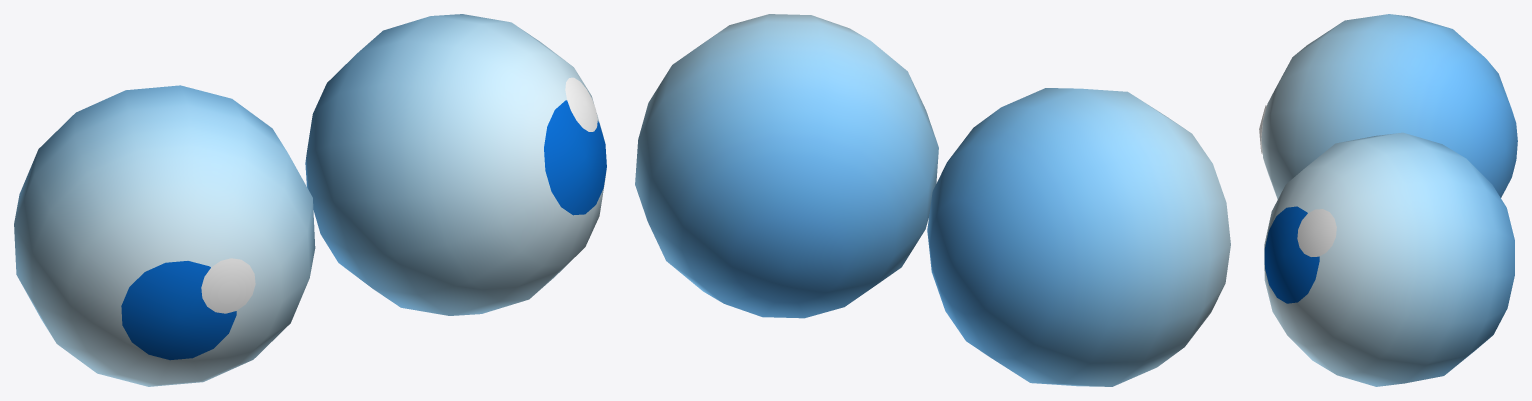
The model's file is Eyes_Woble_01.fbx.
The picture shows the model from 3 angles, left to right: view 1: azimuth 30°, elevation 25°; view 2: azimuth 150°, elevation 25°; view 3: azimuth 270°, elevation 25°; orthographic projection. The views are drawn at different scales.
Visible parts, largest first — view 1: Eyes_Woble_01; view 2: Eyes_Woble_01; view 3: Eyes_Woble_01.
Boxes of the visible parts, x1,y1,x2,y2 form: Eyes_Woble_01: (14,14,606,386); Eyes_Woble_01: (635,14,1230,386); Eyes_Woble_01: (1259,14,1517,386).
Size of the model in its own units: 84.87 by 39.91 by 40.91.
